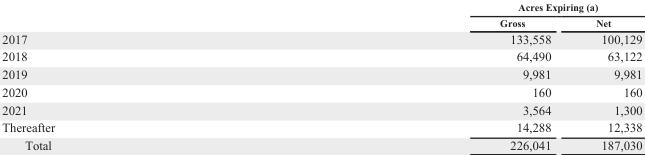table: (1, 1, 641, 151)
table column: (276, 1, 572, 151), (1, 1, 276, 151), (572, 1, 641, 151)
table column header: (1, 1, 641, 29)
table row: (1, 29, 641, 47), (1, 47, 641, 65), (1, 82, 641, 100), (1, 100, 641, 118), (1, 65, 641, 82), (1, 118, 641, 135), (1, 135, 641, 151), (1, 14, 641, 29), (1, 1, 641, 14)
table spanning cell: (276, 1, 641, 14)
